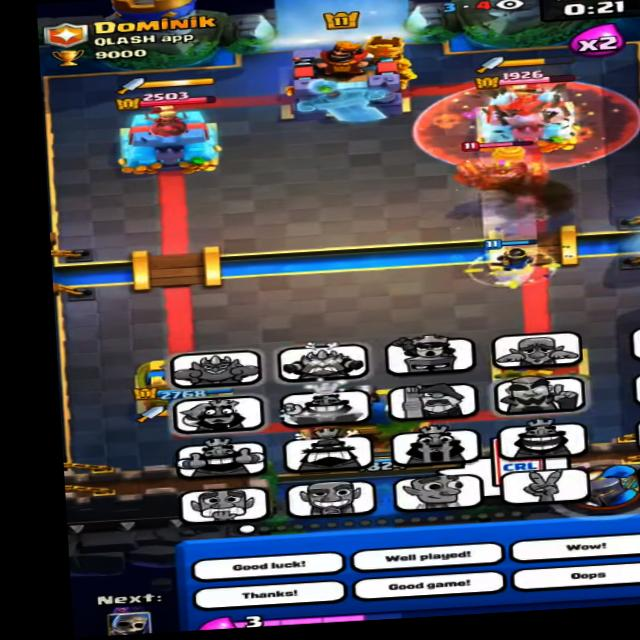goblin-machine: (449, 135, 550, 201)
